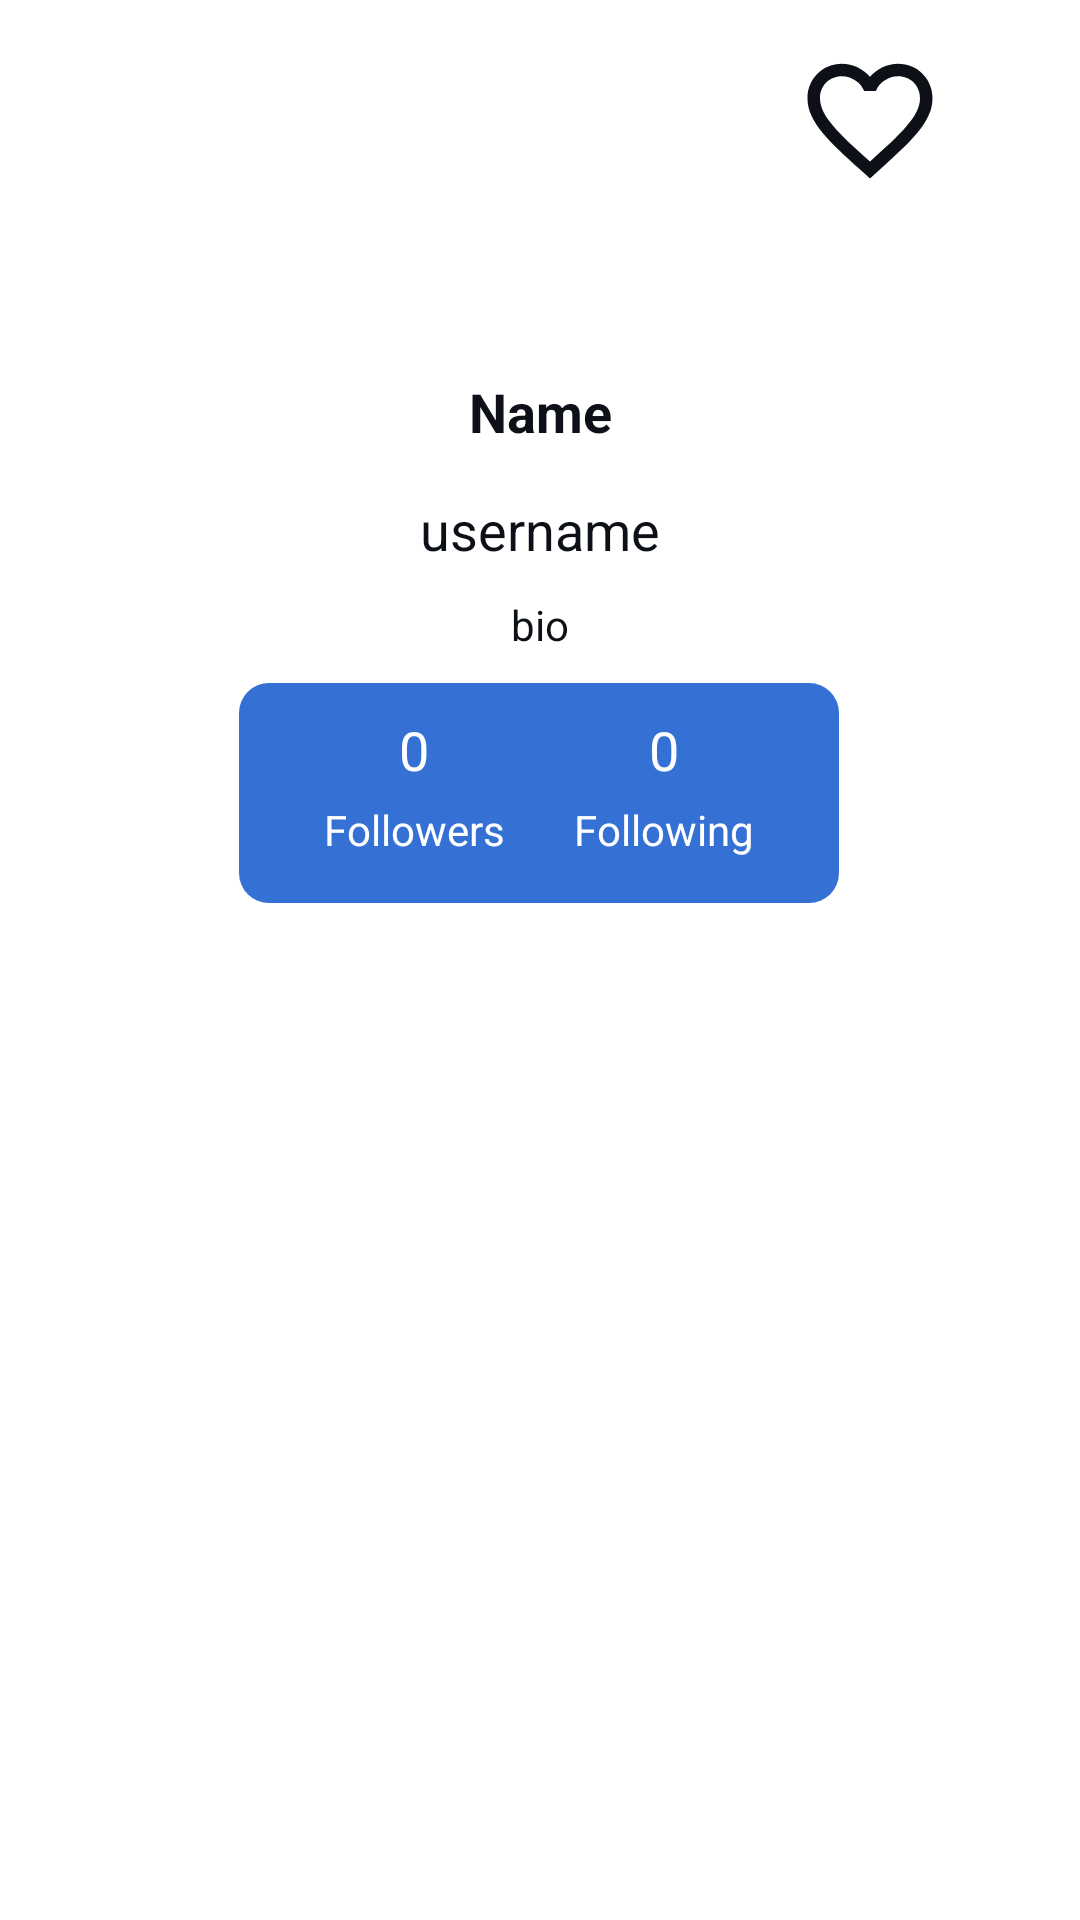

Named icons in this screenshot (1080×1920) and their bounding boxes, (x1,y1,x2,y2):
favorite border: (807,63,933,179)
